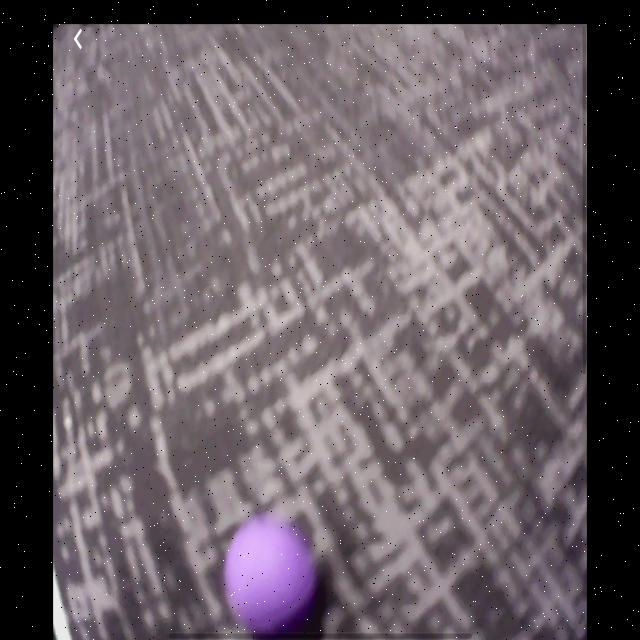ball: (223, 513, 321, 637)
